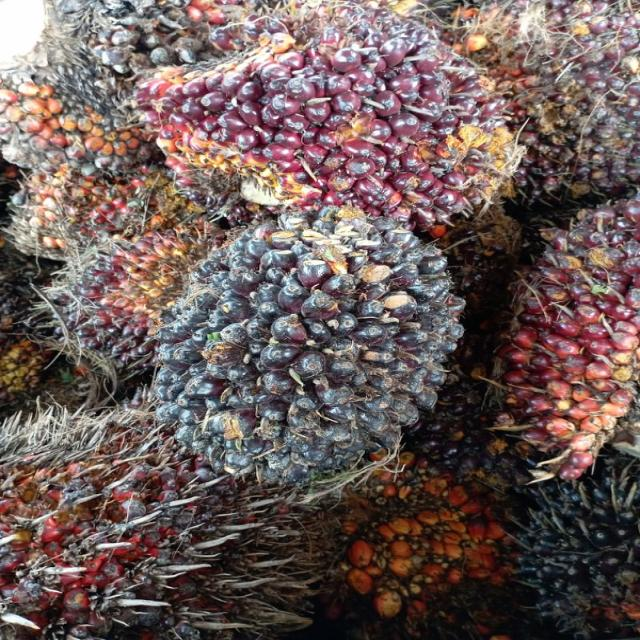fraksi 00: (152, 212, 456, 458)
fraksi 3: (133, 38, 530, 237), (495, 197, 640, 483)
